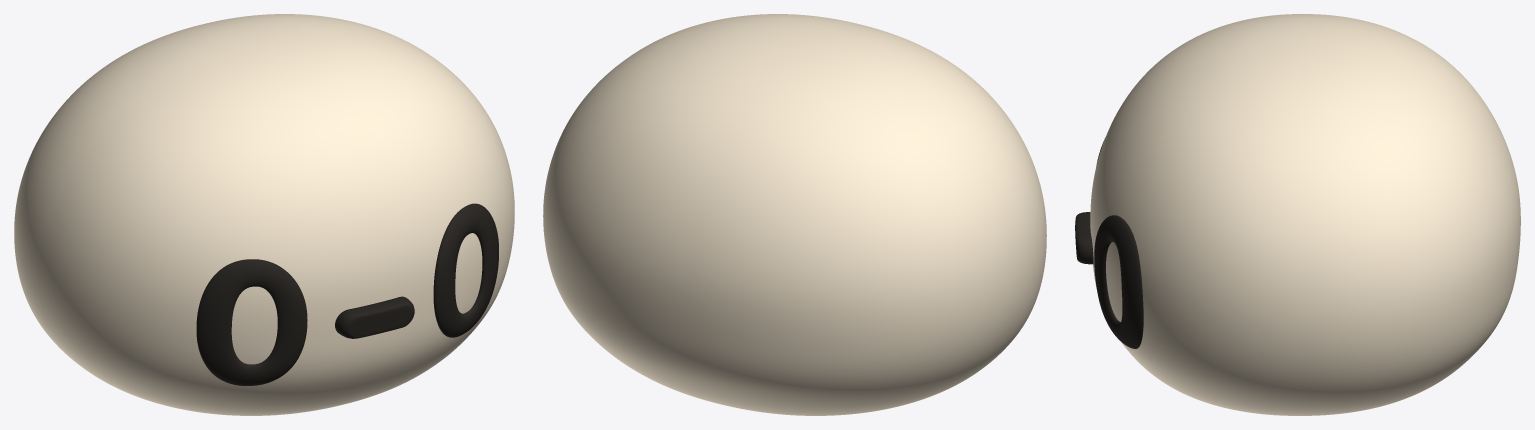
File: xiaobai-head.glb
3 views of the same model, side by side, from view 1: azimuth 30°, elevation 25°; view 2: azimuth 150°, elevation 25°; view 3: azimuth 270°, elevation 25° (orthographic). The views are drawn at different scales.
Parts seen in each view (by area): view 1: Head, Eye_L, Eye_R, Nose; view 2: Head; view 3: Head, Eye_R, Nose.
Part boxes in pixels (box(x1,y1,x2,y2)): Head: box(14, 14, 514, 415); Eye_L: box(196, 259, 307, 385); Eye_R: box(433, 203, 498, 337); Nose: box(335, 296, 414, 338); Head: box(543, 14, 1046, 415); Head: box(1090, 14, 1520, 415); Eye_R: box(1094, 215, 1143, 348); Nose: box(1075, 212, 1093, 264).
Bounding box in the file's own units: 81.6 × 56.6 × 72.48.
